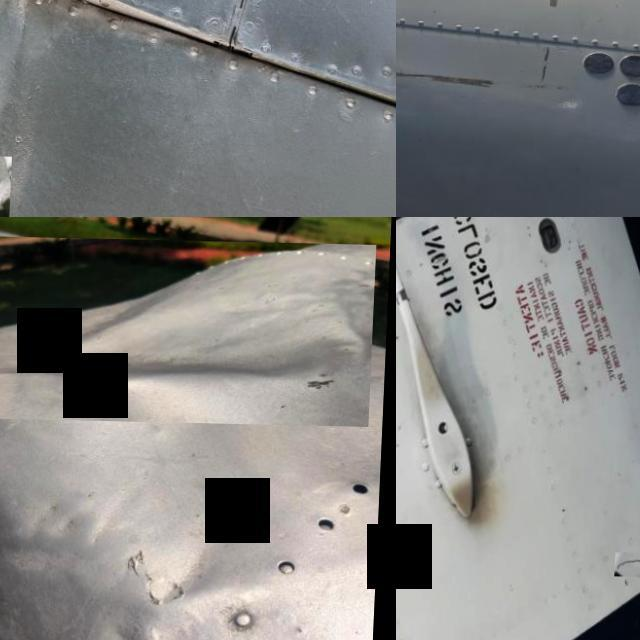Crack: (617, 550, 640, 575)
Dent: (0, 234, 377, 423), (138, 520, 269, 616), (78, 593, 183, 640)
Missing_Fastener: (309, 498, 356, 546), (341, 464, 384, 506)
